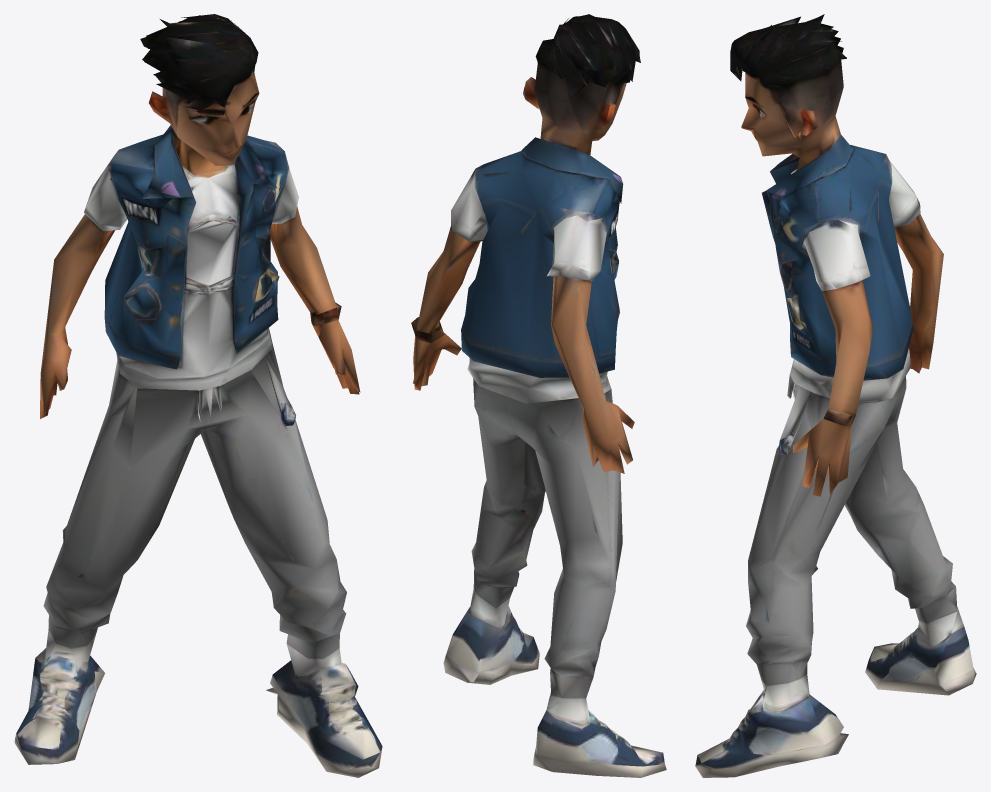
File: fan05.glb
3 views of the same model, side by side, from view 1: azimuth 30°, elevation 25°; view 2: azimuth 150°, elevation 25°; view 3: azimuth 270°, elevation 25° (orthographic). The views are drawn at different scales.
Parts seen in each view (by area): view 1: material_proxy; view 2: material_proxy; view 3: material_proxy.
Part boxes in pixels (left/top/right/bottom): material_proxy: left=14, top=14, right=382, bottom=777; material_proxy: left=411, top=14, right=666, bottom=777; material_proxy: left=695, top=14, right=976, bottom=777.
Size of the model in its own units: 0.4781 by 1.14 by 0.4133.
1 material, 1 textured.
